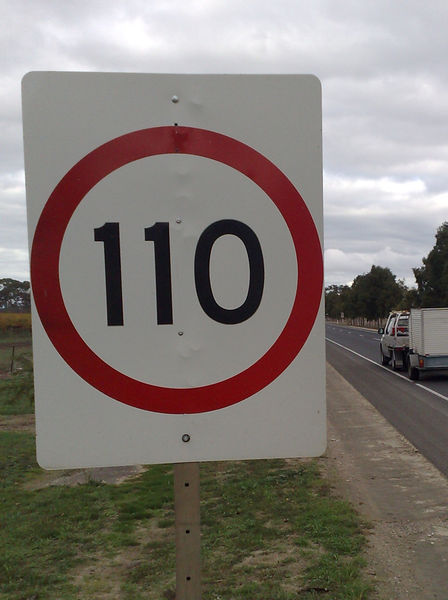Speed_limit_110km: (31, 125, 325, 415)
